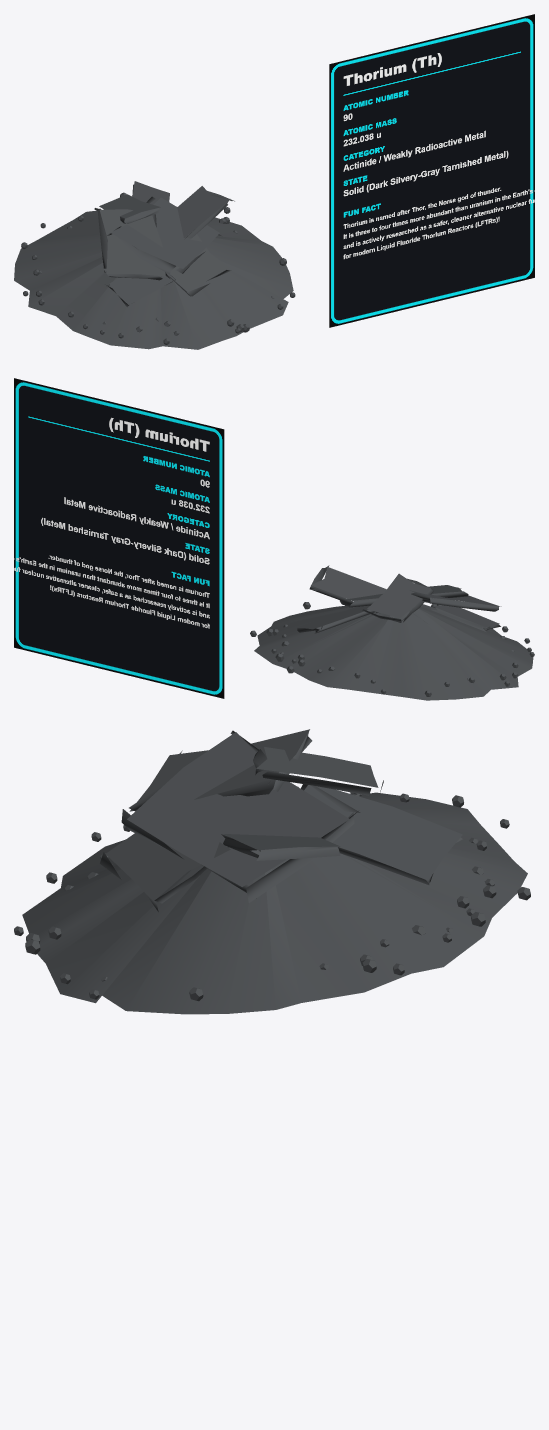
Rendered from thorium.glb.
3 renders of one model, top to bottom at view 1: azimuth 30°, elevation 25°; view 2: azimuth 150°, elevation 25°; view 3: azimuth 270°, elevation 25°, orthographic. The views are drawn at different scales.
Visible parts, largest first — view 1: Mesh_189, Mesh_0, Mesh_181, Mesh_182, Mesh_183, Mesh_185, Mesh_187, Mesh_186, Mesh_184; view 2: Mesh_189, Mesh_0, Mesh_186, Mesh_183, Mesh_182, Mesh_184, Mesh_187, Mesh_181; view 3: Mesh_0, Mesh_181, Mesh_184, Mesh_185, Mesh_186, Mesh_182, Mesh_183.
Part boxes in pixels (left/top/right/bottom): Mesh_189: left=329, top=14, right=534, bottom=327; Mesh_0: left=14, top=210, right=293, bottom=349; Mesh_181: left=106, top=196, right=222, bottom=274; Mesh_182: left=97, top=208, right=165, bottom=280; Mesh_183: left=177, top=186, right=234, bottom=238; Mesh_185: left=165, top=234, right=231, bottom=296; Mesh_187: left=105, top=273, right=175, bottom=307; Mesh_186: left=94, top=194, right=160, bottom=223; Mesh_184: left=132, top=181, right=169, bottom=204; Mesh_189: left=14, top=378, right=224, bottom=698; Mesh_0: left=254, top=604, right=533, bottom=700; Mesh_186: left=362, top=573, right=433, bottom=622; Mesh_183: left=309, top=565, right=386, bottom=613; Mesh_182: left=410, top=590, right=501, bottom=611; Mesh_184: left=296, top=605, right=375, bottom=633; Mesh_187: left=431, top=605, right=500, bottom=631; Mesh_181: left=340, top=585, right=468, bottom=607; Mesh_0: left=22, top=792, right=527, bottom=1014; Mesh_181: left=121, top=730, right=360, bottom=902; Mesh_184: left=301, top=784, right=462, bottom=884; Mesh_185: left=100, top=833, right=230, bottom=911; Mesh_186: left=253, top=747, right=383, bottom=795; Mesh_182: left=129, top=729, right=312, bottom=811; Mesh_183: left=221, top=834, right=340, bottom=860.
Bounding box in the file's own units: 2.77 × 1.4 × 1.34.
Materials: 2 (1 with a texture image).
